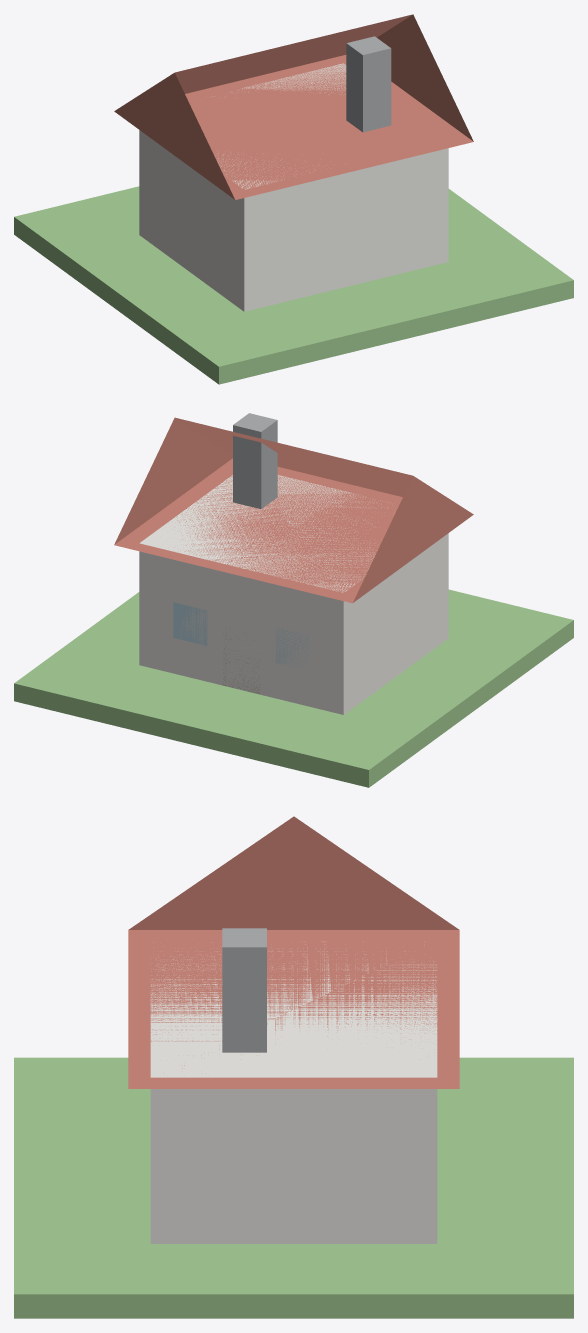
The model's file is house_small.glb.
3 views of the same model, one above another, from view 1: azimuth 30°, elevation 25°; view 2: azimuth 150°, elevation 25°; view 3: azimuth 270°, elevation 25° (orthographic). The views are drawn at different scales.
Parts seen in each view (by area): view 1: yard, house_body, roof, chimney; view 2: house_body, yard, roof, chimney, window_right, window_left; view 3: yard, house_body, roof, chimney.
Part boxes in pixels (x1,y1,x2,y2): yard: (14, 186, 573, 384); house_body: (139, 63, 448, 311); roof: (114, 14, 473, 199); chimney: (346, 36, 391, 132); house_body: (139, 475, 448, 714); yard: (14, 589, 573, 787); roof: (114, 417, 473, 603); chimney: (233, 413, 277, 508); window_right: (173, 602, 207, 645); window_left: (275, 628, 309, 669); yard: (14, 1057, 573, 1318); house_body: (150, 941, 437, 1243); roof: (128, 816, 459, 1088); chimney: (222, 928, 266, 1052).
Bounding box in the file's own units: 1.25 × 0.75 × 1.25.
